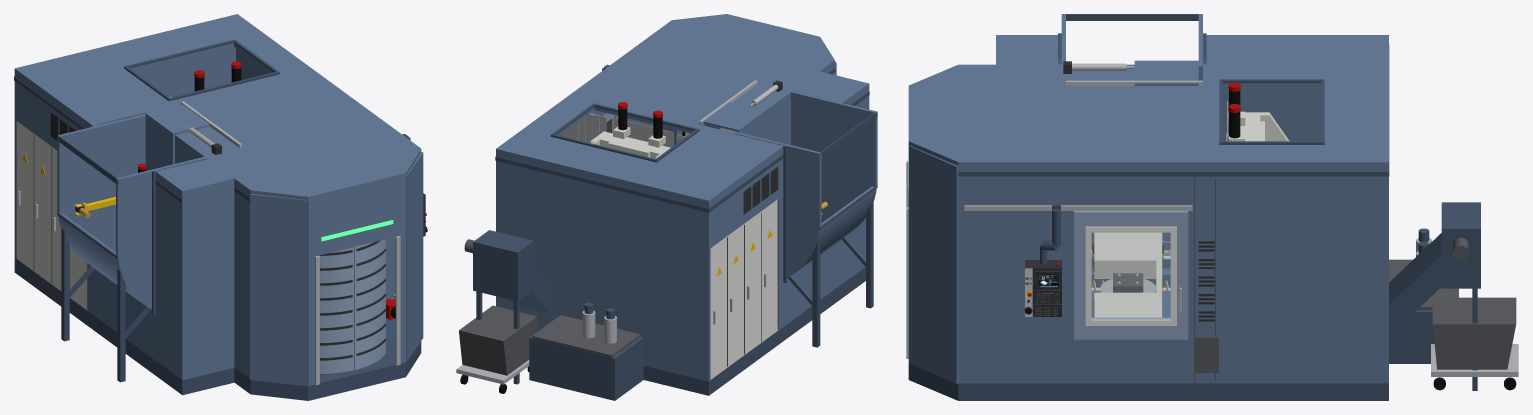
Rendered from hmc_x800_4ax_blue_right.glb.
3 views of the same model, side by side, from view 1: azimuth 30°, elevation 25°; view 2: azimuth 150°, elevation 25°; view 3: azimuth 270°, elevation 25° (orthographic). The views are drawn at different scales.
Parts seen in each view (by area): view 1: enclosure__fms_blue, apc_housing__fms_blue, tc_box__fms_blue, electrical_cabinet__hmc_white, enclosure__fms_blue_dk, apc_door_left__door_blue, apc_housing__fms_blue_dk, apc_door_right__door_blue, tc_box__fms_blue_dk, tc_door__fms_blue, apc_housing__steel, apc_door_left__anthracite (+4 smaller); view 2: enclosure__fms_blue, tc_box__fms_blue, chip_coolant__fms_blue_dk, electrical_cabinet__hmc_white, enclosure__fms_blue_dk, apc_housing__fms_blue, chip_cart__steel_dark, tc_box__fms_blue_dk, chip_coolant__anthracite_lt, tc_door__fms_blue, column__struct_grey, enclosure__anthracite (+6 smaller); view 3: enclosure__fms_blue, apc_housing__fms_blue, enclosure__fms_blue_dk, chip_coolant__fms_blue_dk, operator_door__glass_clear, operator_door__door_blue, chip_cart__steel_dark, table__struct_grey, operator_door__hmc_white, enclosure__steel, apc_housing__fms_blue_dk, tc_door__fms_blue (+12 smaller).
Part boxes in pixels (<box>): enclosure__fms_blue: <box>14,14,404,380</box>; apc_housing__fms_blue: <box>234,137,423,386</box>; tc_box__fms_blue: <box>57,114,205,309</box>; electrical_cabinet__hmc_white: <box>17,121,87,309</box>; enclosure__fms_blue_dk: <box>14,39,279,395</box>; apc_door_left__door_blue: <box>320,247,354,373</box>; apc_housing__fms_blue_dk: <box>234,187,421,400</box>; apc_door_right__door_blue: <box>354,239,385,369</box>; tc_box__fms_blue_dk: <box>57,135,151,382</box>; tc_door__fms_blue: <box>145,104,210,170</box>; apc_housing__steel: <box>315,236,400,385</box>; apc_door_left__anthracite: <box>319,250,352,360</box>; enclosure__fms_blue: <box>496,31,869,381</box>; tc_box__fms_blue: <box>735,91,877,277</box>; chip_coolant__fms_blue_dk: <box>473,230,643,400</box>; electrical_cabinet__hmc_white: <box>710,199,777,379</box>; enclosure__fms_blue_dk: <box>495,91,869,395</box>; apc_housing__fms_blue: <box>656,14,836,135</box>; chip_cart__steel_dark: <box>459,305,537,375</box>; tc_box__fms_blue_dk: <box>788,111,877,347</box>; chip_coolant__anthracite_lt: <box>532,315,640,357</box>; tc_door__fms_blue: <box>703,102,765,138</box>; column__struct_grey: <box>590,126,670,158</box>; enclosure__anthracite: <box>743,80,782,214</box>; enclosure__fms_blue: <box>996,35,1388,383</box>; apc_housing__fms_blue: <box>908,64,995,383</box>; enclosure__fms_blue_dk: <box>996,33,1389,400</box>; chip_coolant__fms_blue_dk: <box>1389,202,1480,390</box>; operator_door__glass_clear: <box>1092,233,1169,318</box>; operator_door__door_blue: <box>1074,211,1188,339</box>; chip_cart__steel_dark: <box>1432,297,1516,369</box>; table__struct_grey: <box>1094,232,1162,317</box>; operator_door__hmc_white: <box>1085,226,1176,325</box>; enclosure__steel: <box>964,63,1202,210</box>; apc_housing__fms_blue_dk: <box>908,171,995,400</box>; tc_door__fms_blue: <box>1134,60,1198,239</box>.
Bounding box in the file's own units: 4.54 × 3.22 × 6.98.
23 materials, 2 textured.
